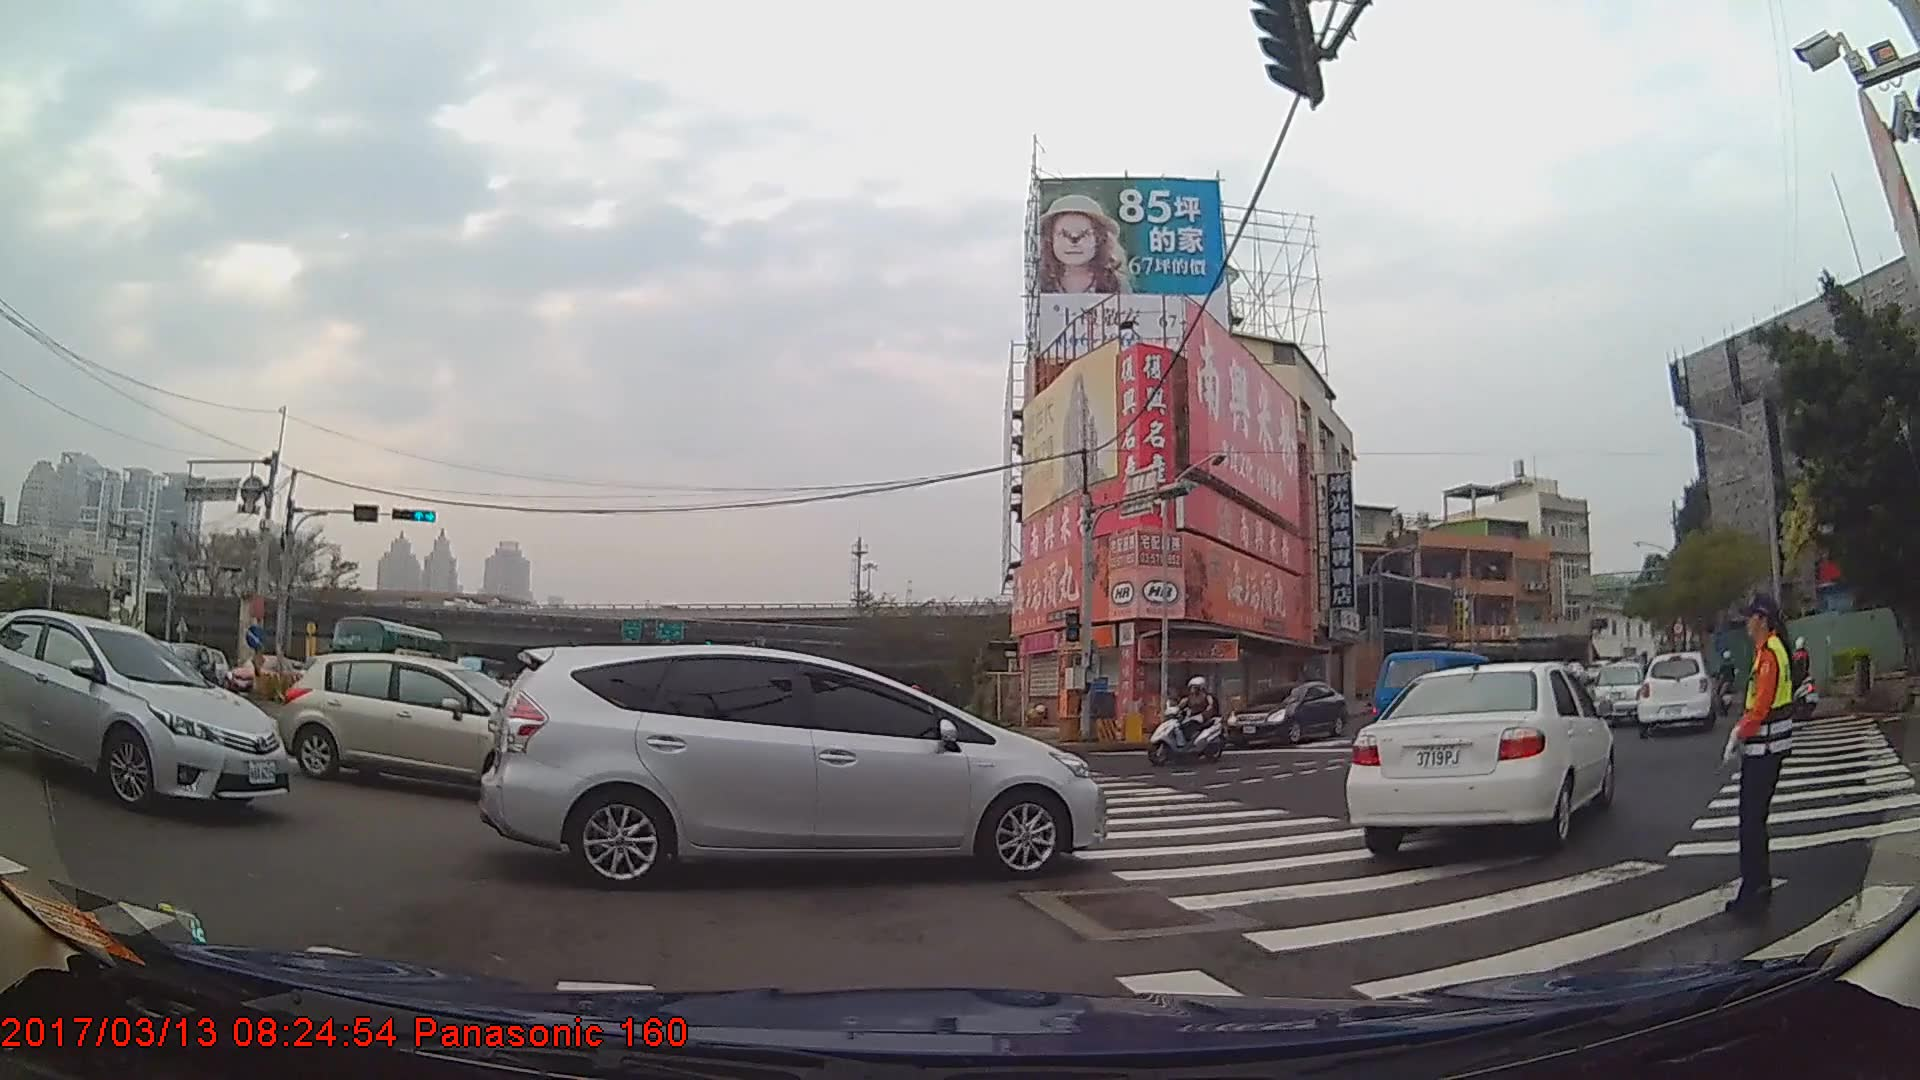pedestrian: (1722, 592, 1802, 915)
rider: (1150, 675, 1232, 766), (1713, 648, 1741, 712)
vehicle: (474, 641, 1108, 881), (0, 605, 288, 814), (1344, 659, 1617, 858), (279, 646, 560, 793), (328, 614, 442, 696), (1633, 649, 1715, 740), (1225, 683, 1337, 749), (1588, 657, 1654, 726), (220, 651, 298, 701)
